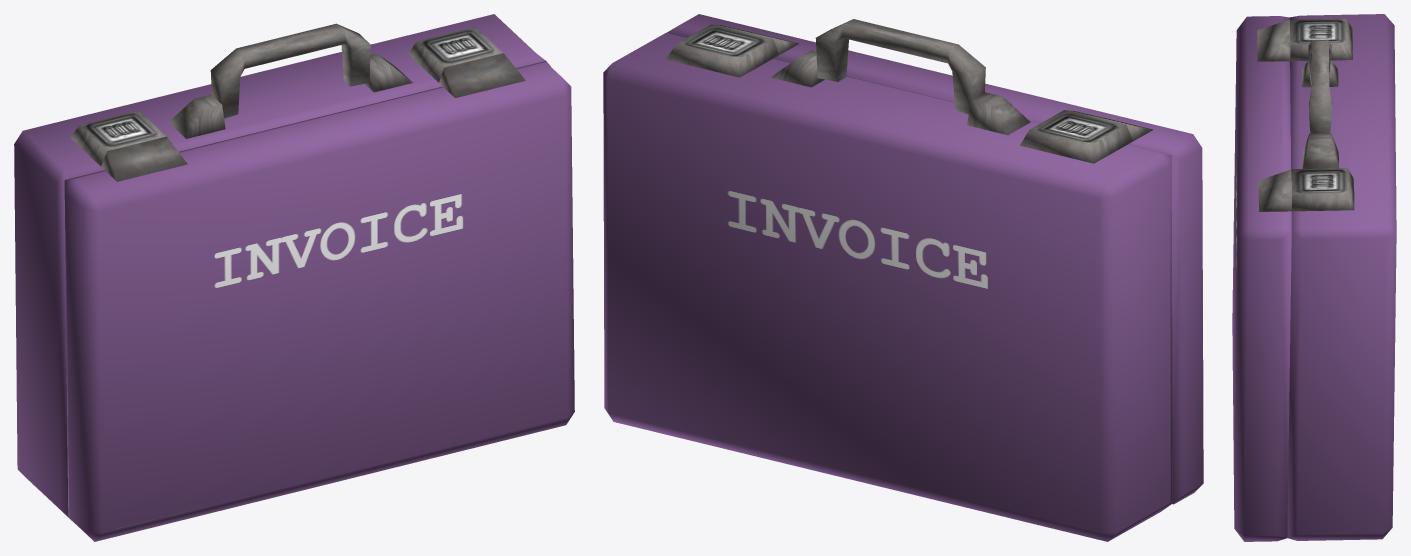
File: inv.glb
The picture shows the model from 3 angles, left to right: view 1: azimuth 30°, elevation 25°; view 2: azimuth 150°, elevation 25°; view 3: azimuth 270°, elevation 25°; orthographic projection. The views are drawn at different scales.
Visible parts, largest first — view 1: suitcase; view 2: suitcase; view 3: suitcase.
Part boxes in pixels (x1,y1,x2,y2): suitcase: (14,14,574,541); suitcase: (603,14,1203,541); suitcase: (1232,14,1396,541).
Size of the model in its own units: 0.4804 by 0.38 by 0.1504.
Materials: 1 (1 with a texture image).
